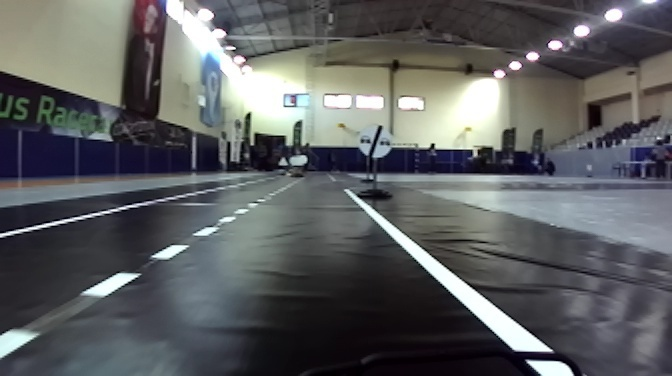sollama_serbest: (357, 122, 394, 158)
